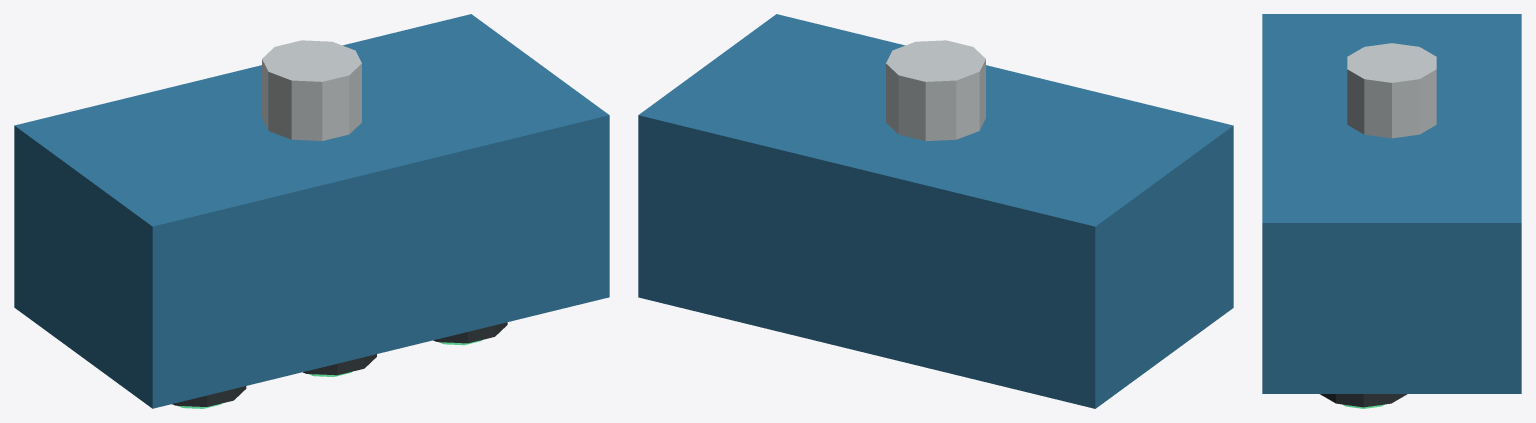
Rendered from CYCLE-009.glb.
3 renders of one model, left to right at view 1: azimuth 30°, elevation 25°; view 2: azimuth 150°, elevation 25°; view 3: azimuth 270°, elevation 25°, orthographic. The views are drawn at different scales.
Visible parts, largest first — view 1: CYCLE-009; view 2: CYCLE-009; view 3: CYCLE-009.
Boxes of the visible parts, x1,y1,x2,y2 form: CYCLE-009: (14, 14, 609, 408); CYCLE-009: (638, 14, 1233, 408); CYCLE-009: (1262, 14, 1521, 408).
Size of the model in its own units: 1.05 by 0.64 by 0.55.
